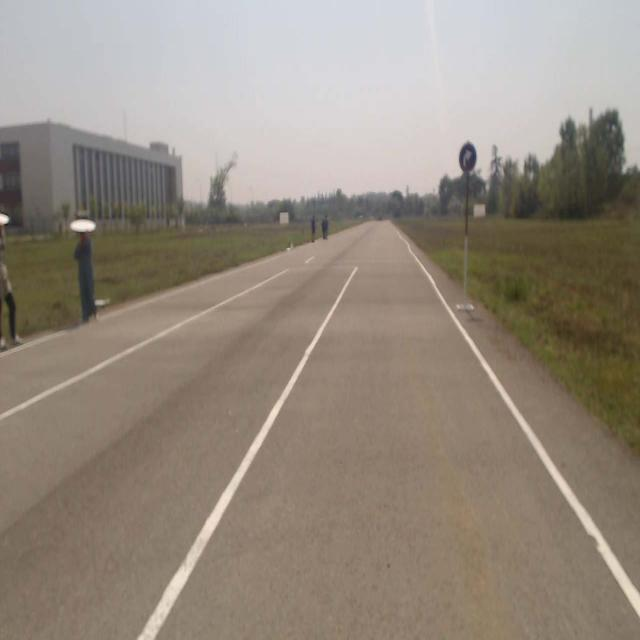sag: (460, 143, 476, 172)
